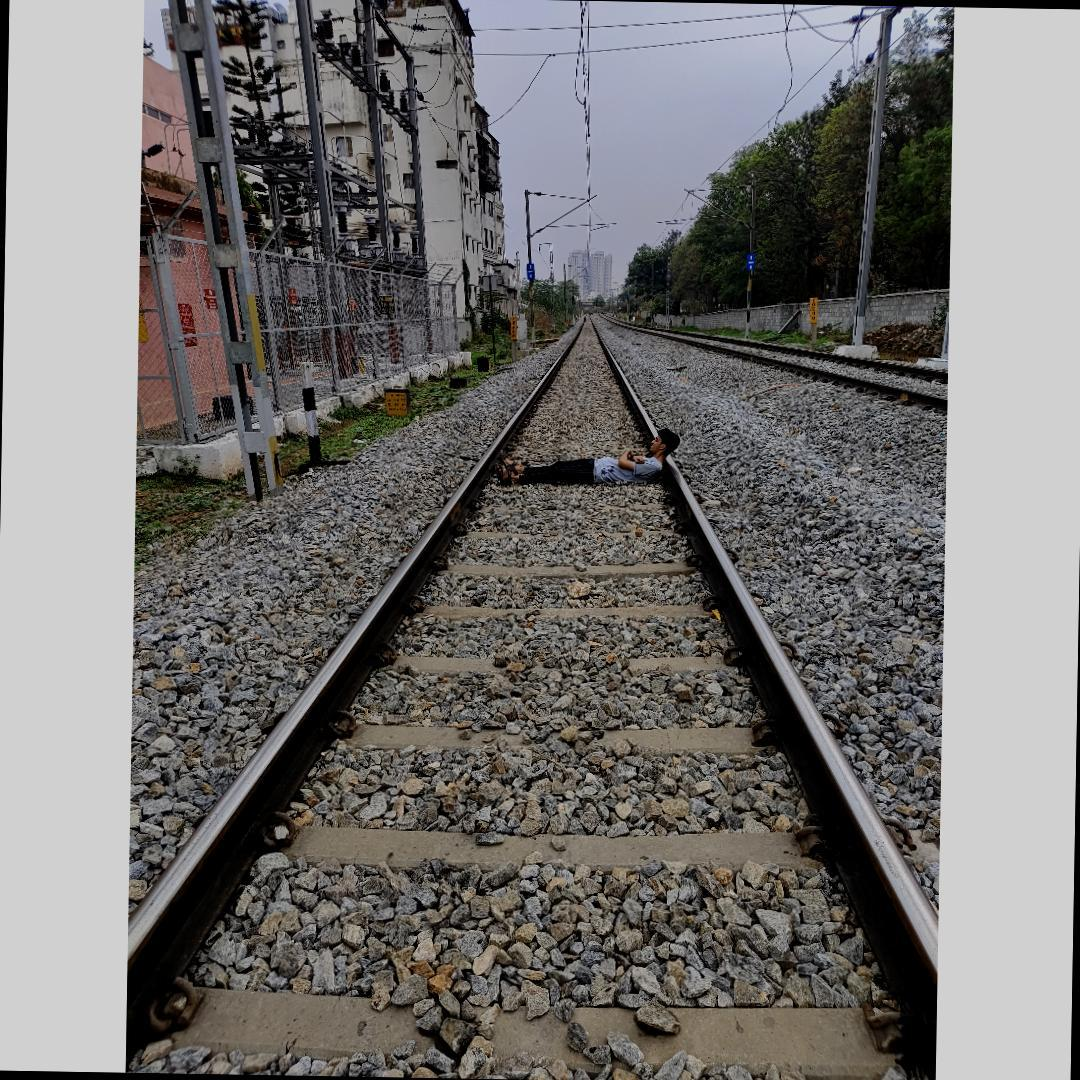sleeping: (494, 424, 682, 490)
track: (126, 305, 939, 1080)
